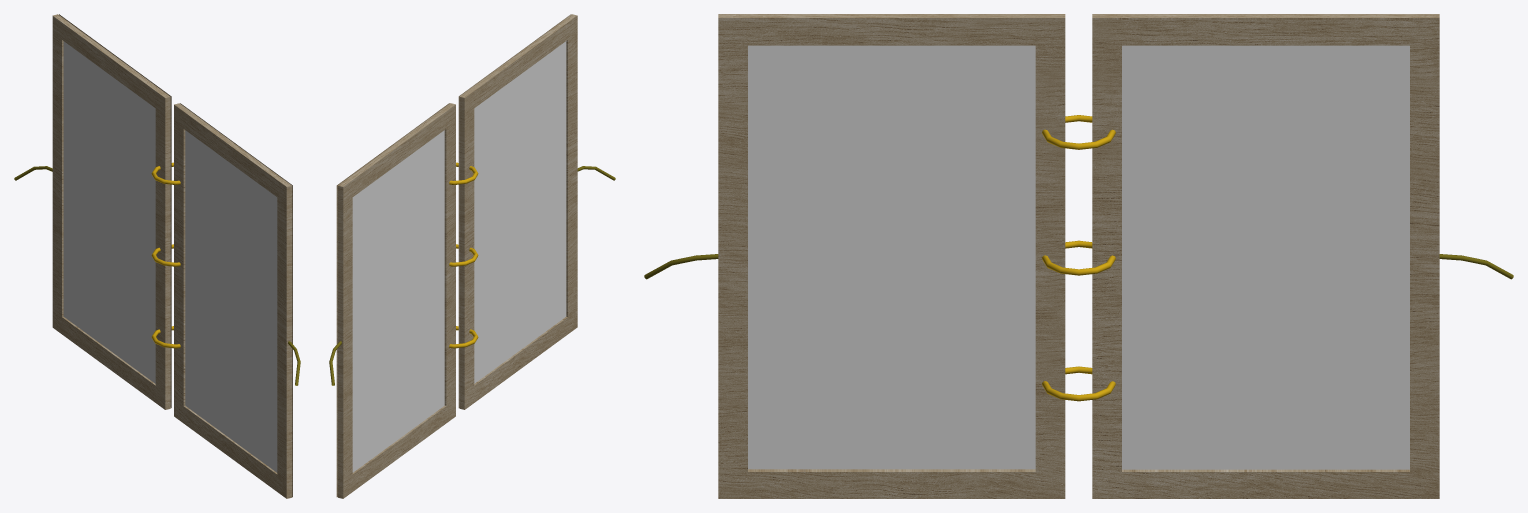
File: Agenda7.fbx
3 renders of one model, left to right at view 1: azimuth 30°, elevation 25°; view 2: azimuth 150°, elevation 25°; view 3: azimuth 270°, elevation 25°, orthographic. The views are drawn at different scales.
Visible parts, largest first — view 1: Left, Right, Right_BG, Anelli, Left_BG, Laces; view 2: Right, Left, Right_BG, Left_BG, Anelli, Laces; view 3: Left_BG, Right_BG, Left, Right, Anelli.
Boxes of the visible parts, x1=… form: Left: x1=174, y1=103, x2=292, y2=498; Right: x1=52, y1=14, x2=170, y2=409; Right_BG: x1=59, y1=14, x2=171, y2=407; Anelli: x1=151, y1=162, x2=180, y2=348; Left_BG: x1=180, y1=103, x2=292, y2=496; Laces: x1=14, y1=166, x2=300, y2=385; Right: x1=337, y1=103, x2=455, y2=498; Left: x1=459, y1=14, x2=577, y2=409; Right_BG: x1=336, y1=103, x2=449, y2=496; Left_BG: x1=458, y1=14, x2=571, y2=407; Anelli: x1=449, y1=162, x2=478, y2=348; Laces: x1=329, y1=166, x2=615, y2=385; Left_BG: x1=718, y1=18, x2=1065, y2=498; Right_BG: x1=1092, y1=19, x2=1439, y2=498; Left: x1=718, y1=14, x2=1065, y2=471; Right: x1=1092, y1=14, x2=1439, y2=471; Anelli: x1=1042, y1=115, x2=1115, y2=401.
Bounding box in the file's own units: 34.14 × 20.8 × 2.93.
